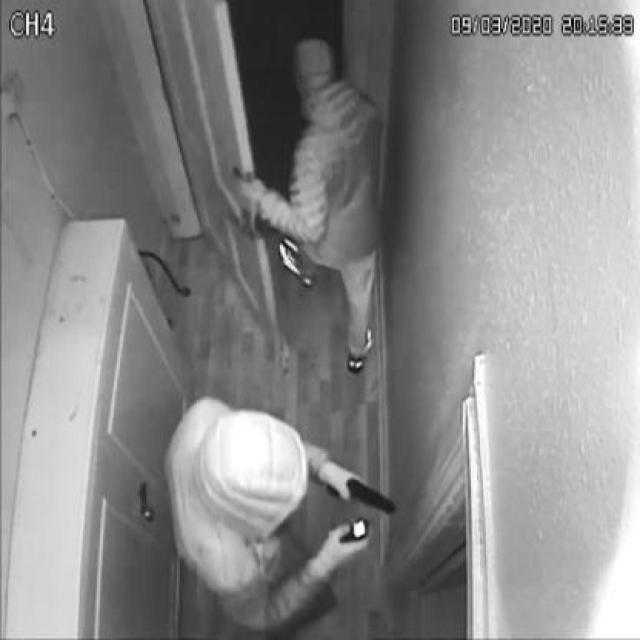weapon: (325, 476, 397, 515)
